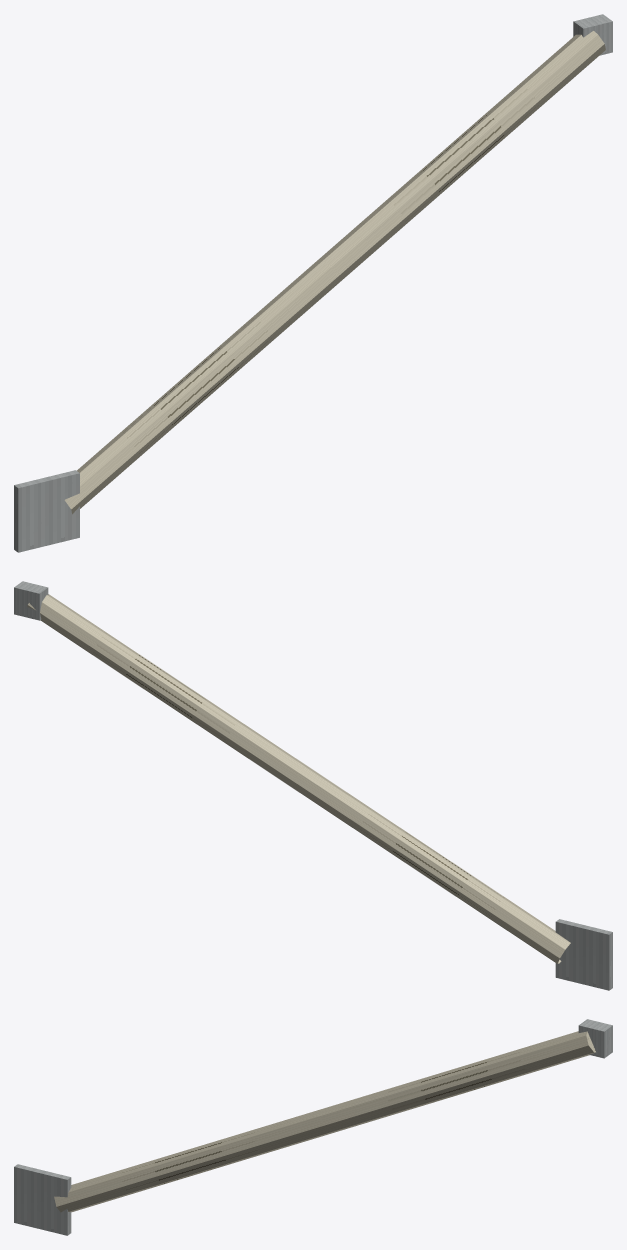
Rendered from brace_r.obj.
3 renders of one model, top to bottom at view 1: azimuth 30°, elevation 25°; view 2: azimuth 150°, elevation 25°; view 3: azimuth 330°, elevation 25°, orthographic. The views are drawn at different scales.
Parts seen in each view (by area): view 1: crossarm_alley_fiberglass_5_r; view 2: crossarm_alley_fiberglass_5_r; view 3: crossarm_alley_fiberglass_5_r.
Boxes of the visible parts, x1,y1,x2,y2 form: crossarm_alley_fiberglass_5_r: (14,14,612,552); crossarm_alley_fiberglass_5_r: (14,581,612,990); crossarm_alley_fiberglass_5_r: (14,1019,612,1235).
Bounding box in the file's own units: 3.23 × 1.67 × 0.4865.
